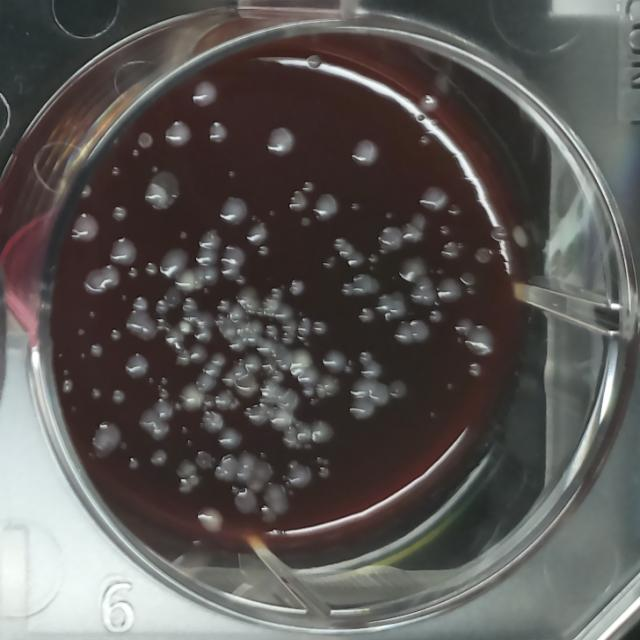Acinetobacter: (463, 320, 497, 359), (263, 125, 298, 160), (217, 192, 250, 228), (160, 118, 194, 152), (347, 135, 380, 169), (190, 78, 222, 112), (398, 253, 428, 284), (418, 184, 450, 213), (109, 235, 138, 267), (160, 246, 189, 278), (376, 224, 405, 254), (437, 275, 464, 305), (313, 192, 338, 224), (206, 119, 232, 147), (322, 348, 348, 375), (123, 354, 149, 379), (220, 244, 246, 268), (218, 425, 242, 450), (198, 227, 222, 251), (194, 246, 220, 268), (245, 223, 267, 247)
Bacillus: (196, 503, 226, 538), (178, 380, 207, 413), (172, 265, 198, 293), (290, 346, 315, 372), (195, 448, 217, 472), (474, 244, 496, 266), (488, 223, 508, 244), (136, 129, 155, 151)
Staphylococcus: (177, 318, 193, 336)
Vagococcus: (386, 376, 410, 404), (164, 286, 183, 310), (458, 269, 478, 289)
